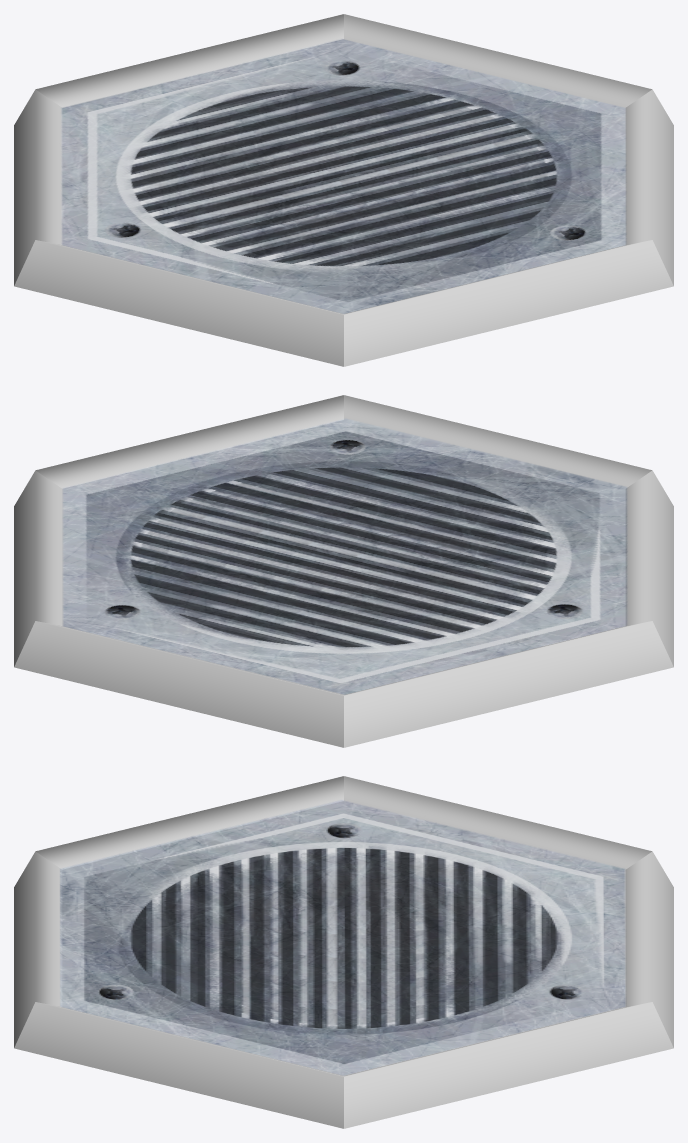
The model's file is HexShip2.fbx.
3 views of the same model, one above another, from view 1: azimuth 30°, elevation 25°; view 2: azimuth 150°, elevation 25°; view 3: azimuth 270°, elevation 25° (orthographic).
Parts seen in each view (by area): view 1: HexShip2; view 2: HexShip2; view 3: HexShip2.
Part boxes in pixels (<box>): HexShip2: <box>14,14,673,366</box>; HexShip2: <box>14,395,673,747</box>; HexShip2: <box>14,776,673,1128</box>.
Size of the model in its own units: 2 by 0.1195 by 1.73.
1 material, 1 textured.
